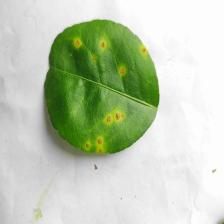canker: (73, 30, 138, 154)
